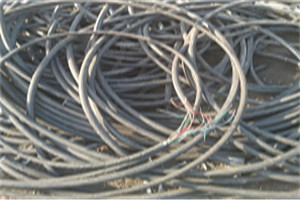more_tube: (145, 12, 293, 179), (4, 13, 121, 157)
